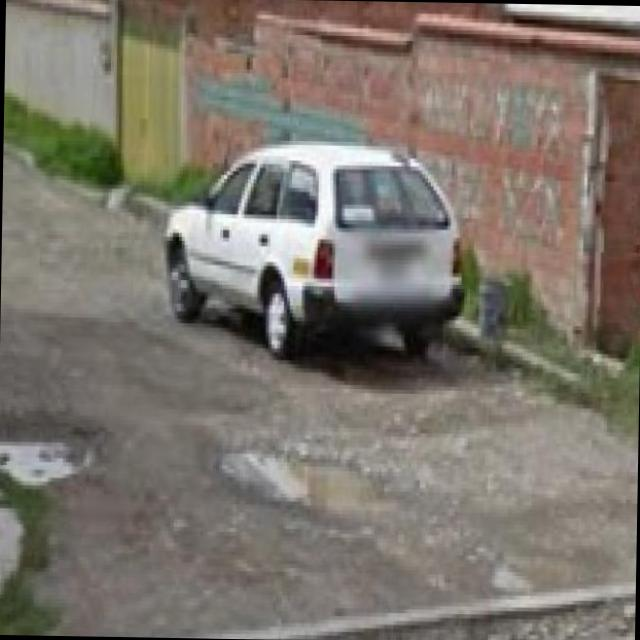car: (162, 133, 466, 355)
